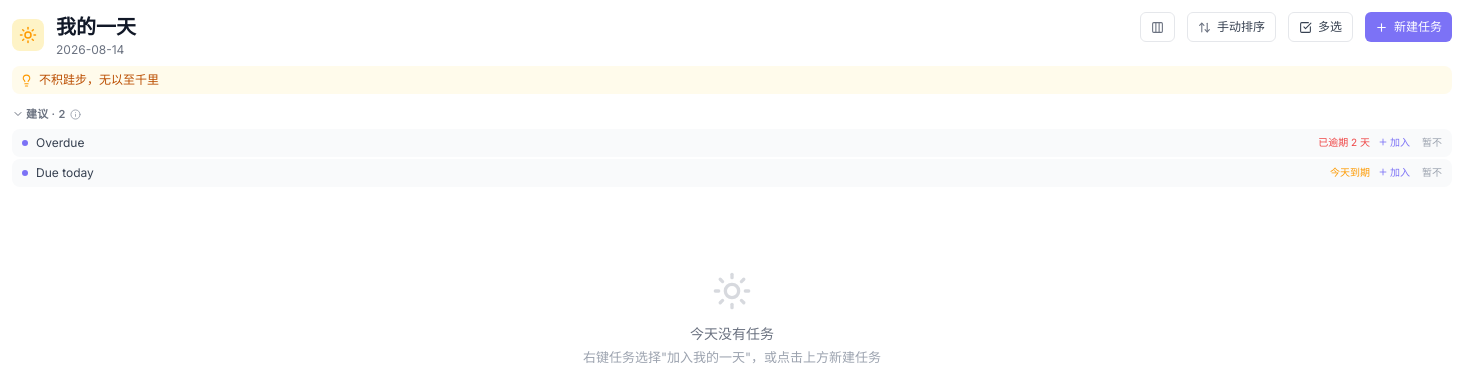
it: MyDayPage › shows suggestion rule text and reason labels
The width and height of the screenshot is (1464, 381).
Expected: the text "推荐规则" is not shown
Hover over the element with class "cursor-help" at (75,114), box 70,109 -> 81,120
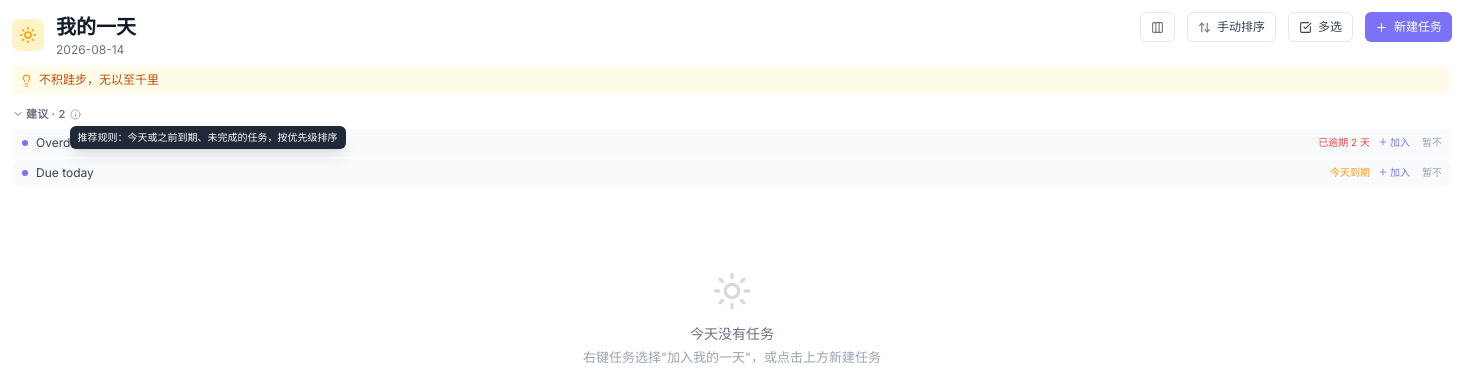
Expected: the text "推荐规则：今天或之前到期、未完成的任务，按优先级排序" is shown, 70,126 -> 346,149
Move the pointer off the element with class "cursor-help", box 70,109 -> 81,120
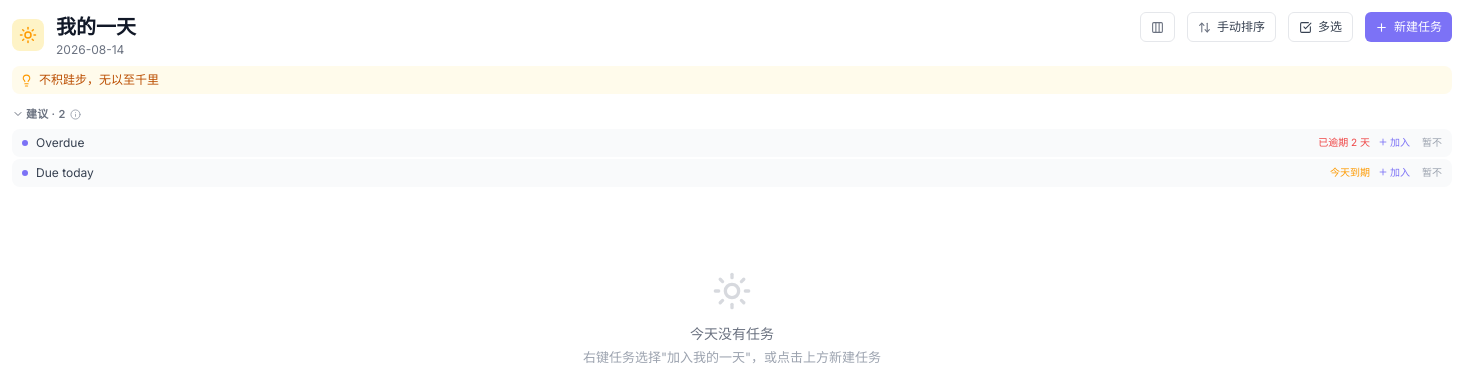
Expected: the text "Due today" is shown, 36,164 -> 94,180
Expected: the text "推荐规则" is gone
